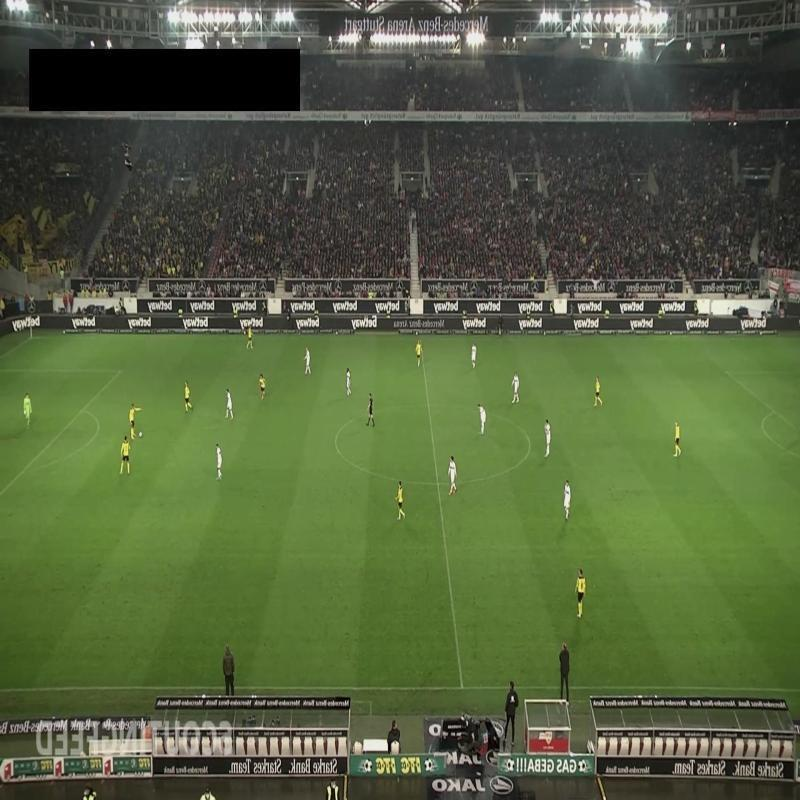1: (24, 331, 38, 345)
10: (766, 404, 781, 419), (74, 404, 88, 418)
11: (16, 466, 30, 480)
13: (414, 334, 423, 345)
14: (421, 399, 435, 413)
15: (431, 476, 445, 490)
16: (453, 678, 472, 696)
9: (114, 364, 128, 378), (720, 367, 734, 379)
c: (328, 435, 342, 450), (524, 434, 536, 450)
